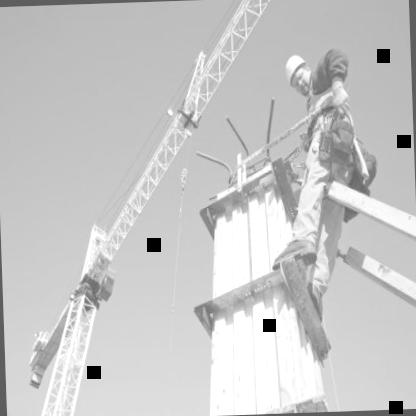helmet: (284, 54, 314, 100)
